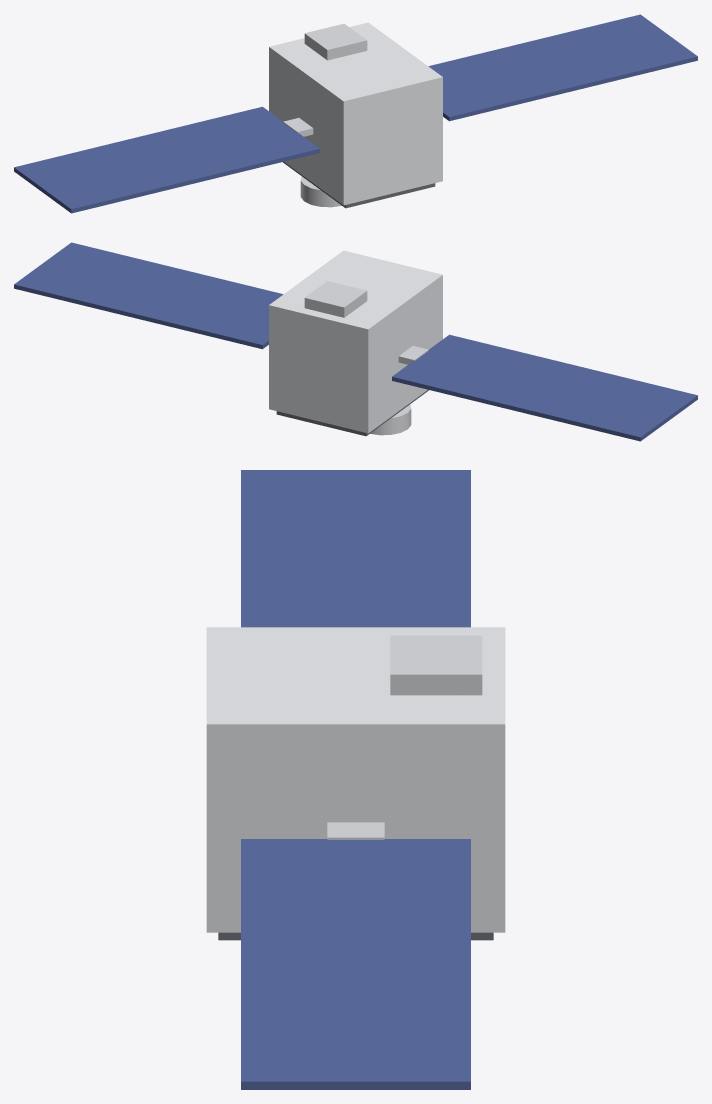
The model's file is leo_comms_bus.glb.
3 renders of one model, top to bottom at view 1: azimuth 30°, elevation 25°; view 2: azimuth 150°, elevation 25°; view 3: azimuth 270°, elevation 25°, orthographic. The views are drawn at different scales.
Parts seen in each view (by area): view 1: leo_comms_bus; view 2: leo_comms_bus; view 3: leo_comms_bus.
Boxes of the visible parts, box(x1,y1,x2,y2) form: leo_comms_bus: box(14, 14, 697, 213); leo_comms_bus: box(14, 242, 697, 441); leo_comms_bus: box(206, 470, 505, 1089).
Bounding box in the file's own units: 6.3 × 1.32 × 1.3.
